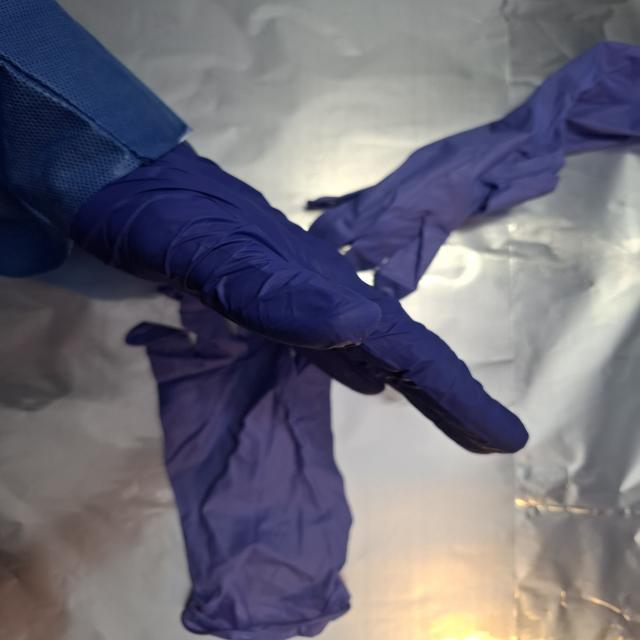glove_on: (68, 142, 532, 458)
